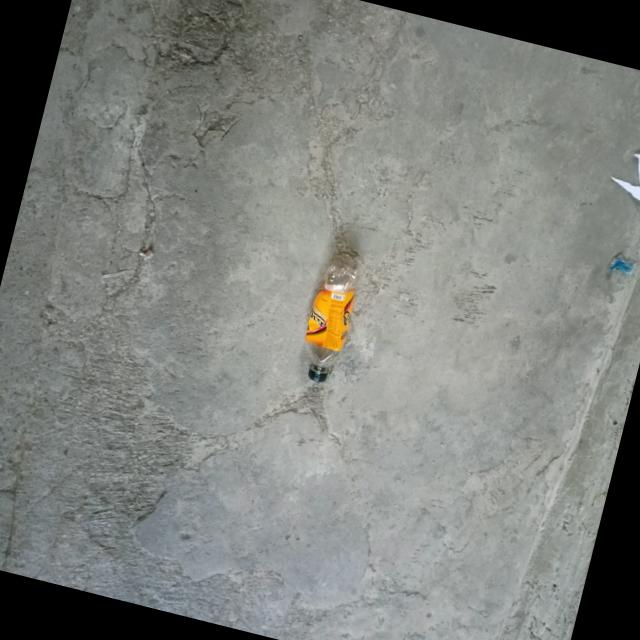Bottle: (304, 253, 355, 382)
